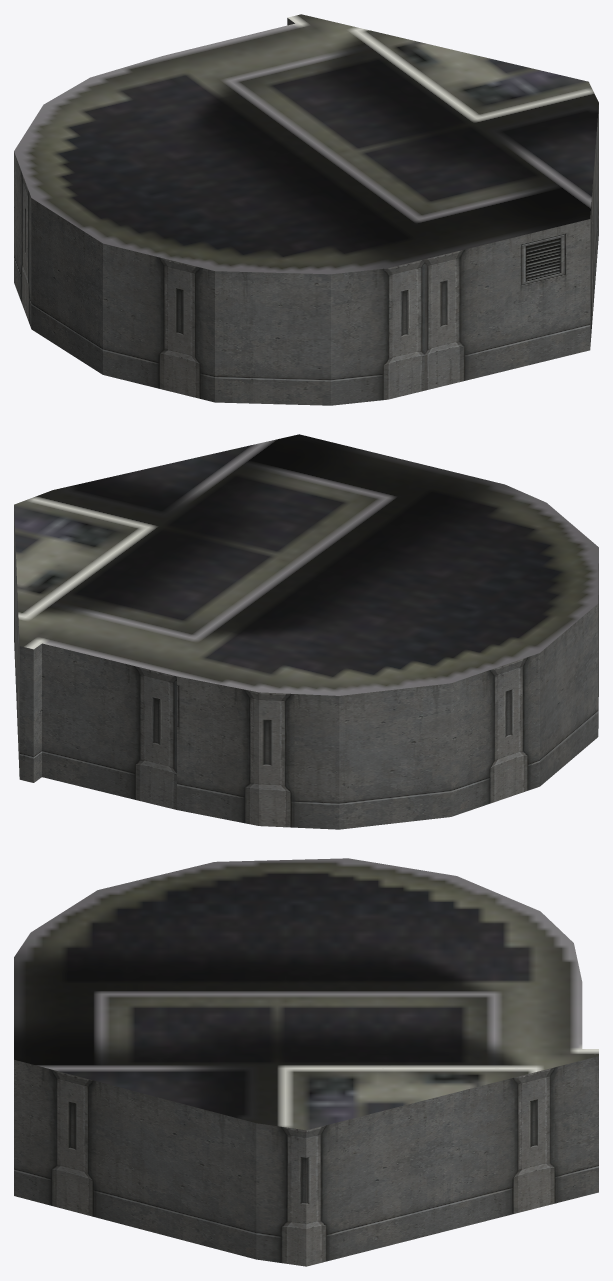
File: BuildingSystem-03-Advance-04-ReinforcedLow-U-110-02.glb
The picture shows the model from 3 angles, top to bottom: view 1: azimuth 30°, elevation 25°; view 2: azimuth 150°, elevation 25°; view 3: azimuth 270°, elevation 25°; orthographic projection. The views are drawn at different scales.
Parts seen in each view (by area): view 1: buildings/saxarba/SMV_Buildings/BuildingSystem-03-Advance-04; view 2: buildings/saxarba/SMV_Buildings/BuildingSystem-03-Advance-04; view 3: buildings/saxarba/SMV_Buildings/BuildingSystem-03-Advance-04.
Boxes of the visible parts, box(x1,y1,x2,y2) form: buildings/saxarba/SMV_Buildings/BuildingSystem-03-Advance-04: box(14, 14, 598, 405); buildings/saxarba/SMV_Buildings/BuildingSystem-03-Advance-04: box(14, 434, 598, 829); buildings/saxarba/SMV_Buildings/BuildingSystem-03-Advance-04: box(14, 858, 598, 1266).
Bounding box in the file's own units: 77 × 18 × 70.
